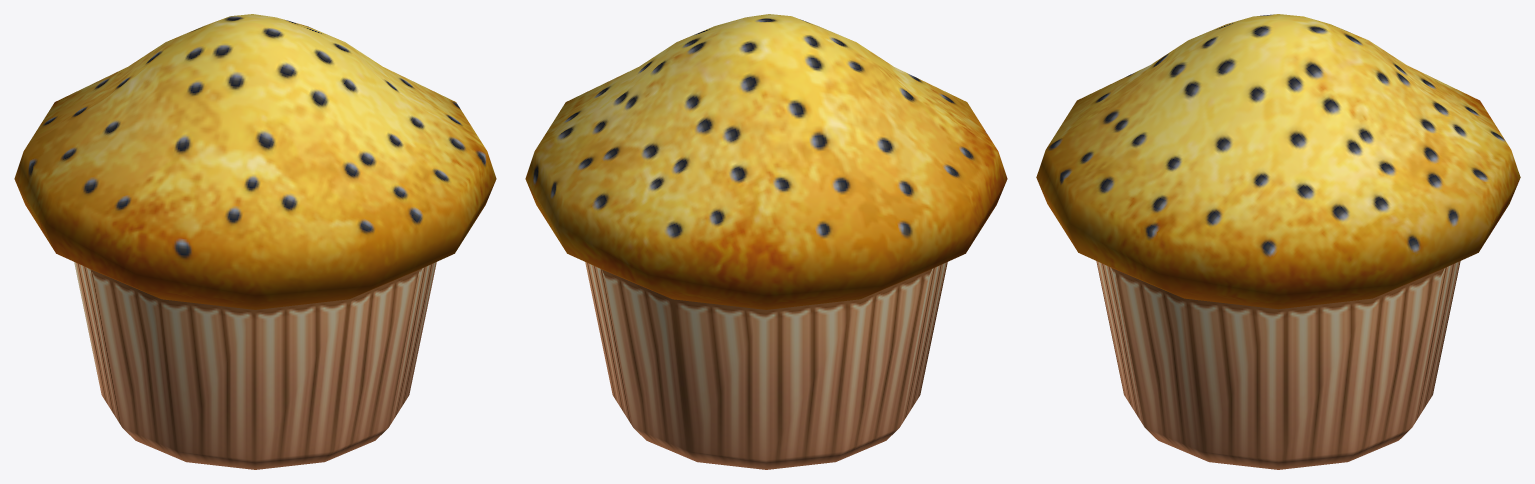
File: 010-Muffins_003.FBX
The picture shows the model from 3 angles, left to right: view 1: azimuth 30°, elevation 25°; view 2: azimuth 150°, elevation 25°; view 3: azimuth 270°, elevation 25°; orthographic projection.
Parts seen in each view (by area): view 1: 010-Muffins_003; view 2: 010-Muffins_003; view 3: 010-Muffins_003.
Boxes of the visible parts, left/top/right/bottom form: 010-Muffins_003: left=14, top=14, right=496, bottom=469; 010-Muffins_003: left=525, top=14, right=1007, bottom=469; 010-Muffins_003: left=1036, top=14, right=1520, bottom=469.
Bounding box in the file's own units: 19.43 × 17.2 × 19.43.
